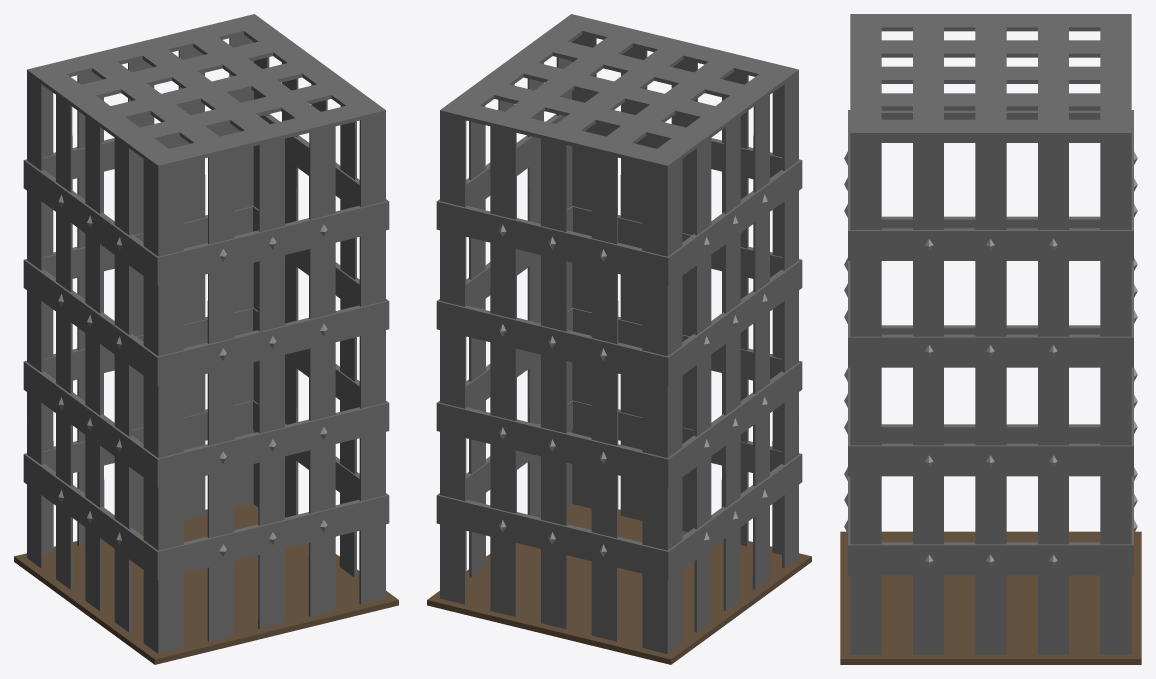
The model's file is Cage.glb.
The picture shows the model from 3 angles, left to right: view 1: azimuth 30°, elevation 25°; view 2: azimuth 150°, elevation 25°; view 3: azimuth 270°, elevation 25°; orthographic projection. The views are drawn at different scales.
Parts seen in each view (by area): view 1: torture_device_011; view 2: torture_device_011; view 3: torture_device_011.
Boxes of the visible parts, x1,y1,x2,y2 form: torture_device_011: (14, 14, 398, 664); torture_device_011: (427, 14, 811, 664); torture_device_011: (840, 14, 1141, 664).
Bounding box in the file's own units: 2.14 × 4.14 × 2.14.
